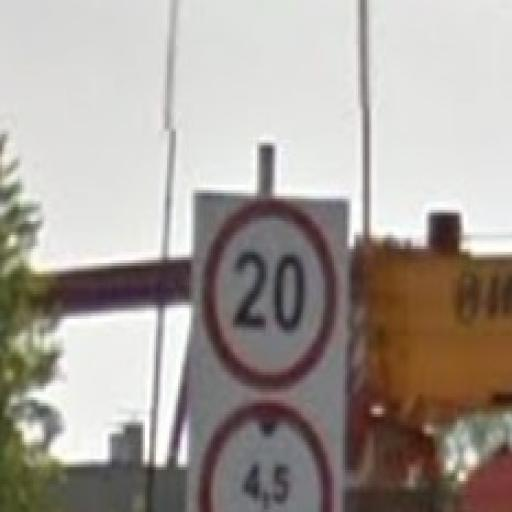traffic_sign: (203, 197, 337, 390)
